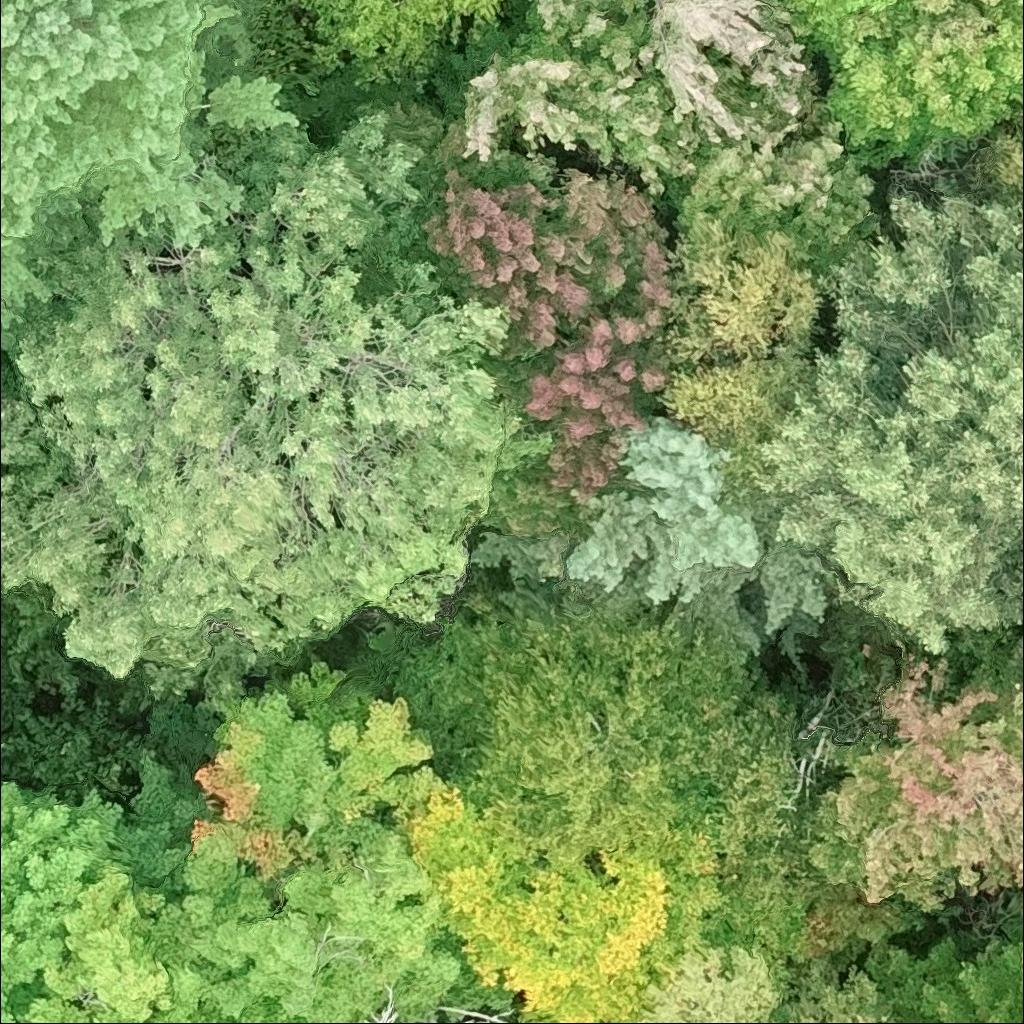crown: (0, 105, 559, 701), (122, 646, 519, 1023), (744, 171, 1023, 662), (396, 597, 825, 915), (382, 98, 684, 538), (465, 403, 848, 677), (0, 0, 300, 324), (396, 780, 732, 1023), (456, 0, 824, 198), (807, 644, 1023, 916), (658, 222, 825, 493), (0, 776, 173, 1023), (661, 92, 888, 280), (781, 0, 1023, 167), (636, 941, 911, 1023), (290, 0, 510, 98), (865, 894, 1023, 1023), (975, 104, 1023, 203), (0, 385, 15, 405), (1019, 944, 1023, 964), (1023, 897, 1023, 899)
